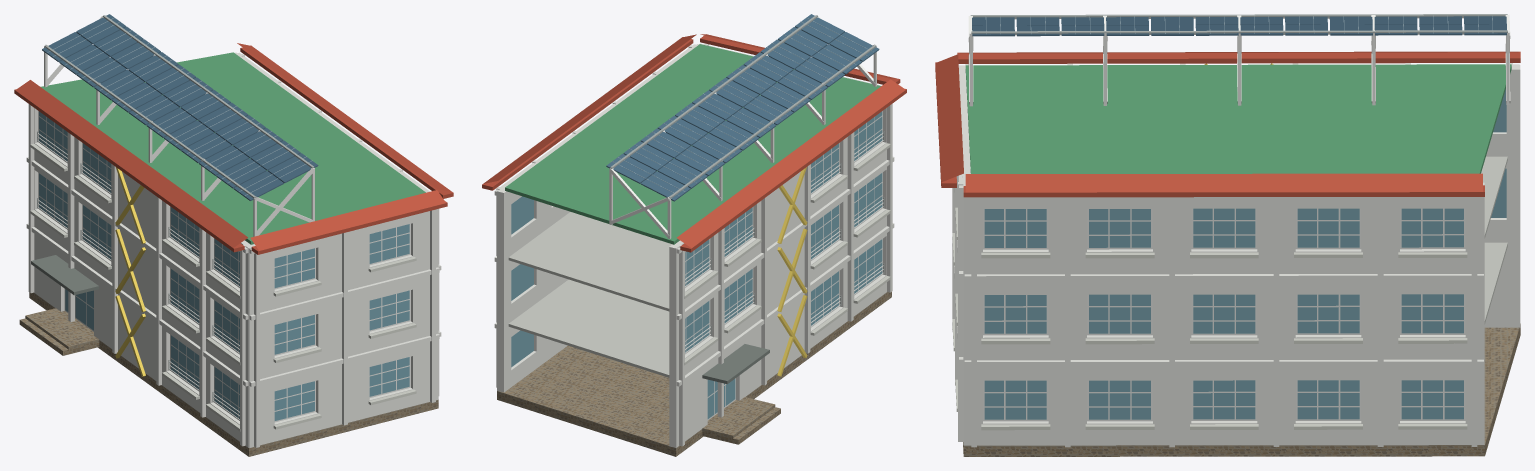
3 renders of one model, left to right at view 1: azimuth 30°, elevation 25°; view 2: azimuth 150°, elevation 25°; view 3: azimuth 270°, elevation 25°, orthographic. The views are drawn at different scales.
Parts seen in each view (by area): view 1: special-wing__panel, special-wing__green, special-wing__pv, special-wing__glass, special-wing__red, special-wing__frame, special-wing__sill, special-wing__stone, special-wing__cap, special-wing__yellow, special-wing__steel, special-wing__pvline (+3 smaller); view 2: special-wing__panel, special-wing__green, special-wing__slab, special-wing__pv, special-wing__stone, special-wing__glass, special-wing__red, special-wing__frame, special-wing__sill, special-wing__cap, special-wing__yellow, special-wing__steel (+4 smaller); view 3: special-wing__panel, special-wing__green, special-wing__glass, special-wing__red, special-wing__frame, special-wing__pv, special-wing__stone, special-wing__sill, special-wing__steel, special-wing__slab, special-wing__cap.
Boxes of the visible parts, bbox=[...] form: special-wing__panel: bbox=[26, 52, 441, 447]; special-wing__green: bbox=[40, 52, 425, 244]; special-wing__pv: bbox=[42, 14, 318, 200]; special-wing__glass: bbox=[39, 111, 409, 420]; special-wing__red: bbox=[14, 43, 453, 254]; special-wing__frame: bbox=[37, 111, 410, 422]; special-wing__sill: bbox=[30, 143, 416, 431]; special-wing__stone: bbox=[29, 292, 438, 456]; special-wing__cap: bbox=[44, 16, 314, 236]; special-wing__yellow: bbox=[115, 167, 145, 376]; special-wing__steel: bbox=[37, 15, 314, 401]; special-wing__pvline: bbox=[47, 17, 312, 195]; special-wing__panel: bbox=[494, 43, 894, 447]; special-wing__green: bbox=[505, 44, 880, 244]; special-wing__slab: bbox=[508, 212, 672, 377]; special-wing__pv: bbox=[606, 14, 879, 201]; special-wing__stone: bbox=[497, 292, 891, 456]; special-wing__glass: bbox=[511, 111, 882, 418]; special-wing__red: bbox=[482, 34, 906, 252]; special-wing__frame: bbox=[685, 111, 883, 420]; special-wing__sill: bbox=[684, 143, 890, 364]; special-wing__cap: bbox=[609, 16, 876, 238]; special-wing__yellow: bbox=[777, 167, 807, 376]; special-wing__steel: bbox=[610, 15, 884, 335]; special-wing__panel: bbox=[952, 63, 1520, 447]; special-wing__green: bbox=[965, 64, 1511, 173]; special-wing__glass: bbox=[984, 89, 1506, 419]; special-wing__red: bbox=[935, 51, 1520, 197]; special-wing__frame: bbox=[983, 208, 1465, 421]; special-wing__pv: bbox=[972, 16, 1506, 36]; special-wing__stone: bbox=[963, 323, 1520, 456]; special-wing__sill: bbox=[952, 207, 1467, 430]; special-wing__steel: bbox=[970, 14, 1507, 35]; special-wing__slab: bbox=[1481, 156, 1507, 324]; special-wing__cap: bbox=[968, 14, 1510, 106].
Bounding box in the file's own units: 13.89 × 14.63 × 22.25.
14 materials, 1 textured.
